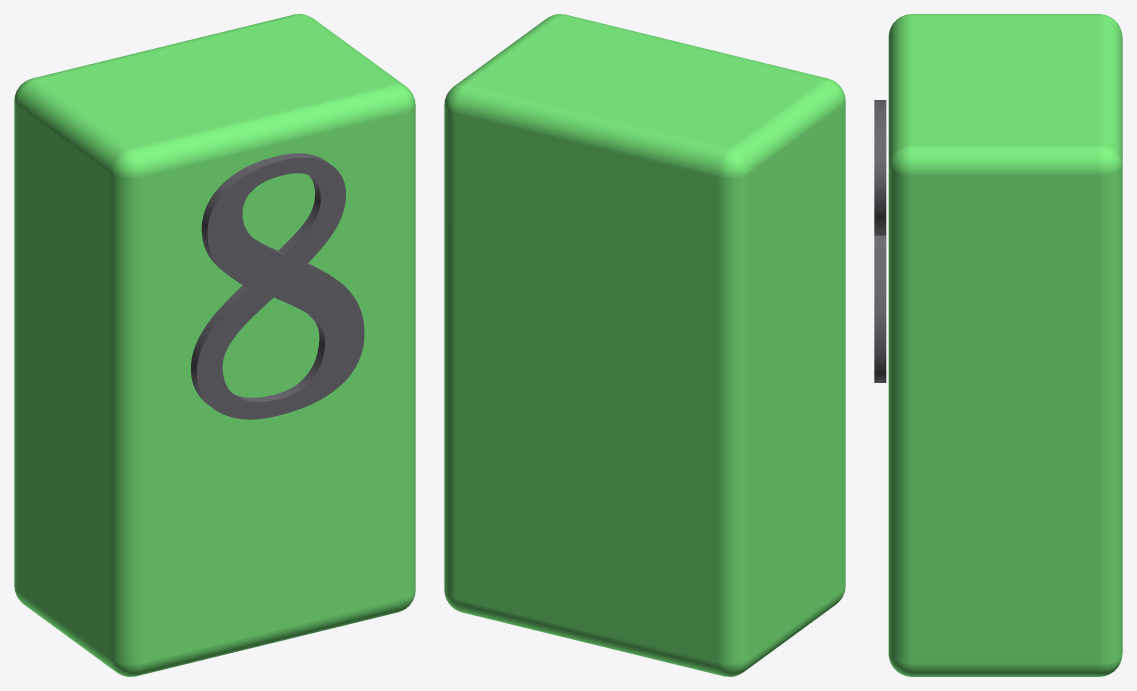
The model's file is pin_8.gltf.
The picture shows the model from 3 angles, left to right: view 1: azimuth 30°, elevation 25°; view 2: azimuth 150°, elevation 25°; view 3: azimuth 270°, elevation 25°; orthographic projection.
Parts seen in each view (by area): view 1: White, Black; view 2: White; view 3: White, Black.
Boxes of the visible parts, <box> form: White: <box>14,14,415,676</box>; Black: <box>191,153,364,419</box>; White: <box>444,14,845,676</box>; White: <box>888,14,1122,676</box>; Black: <box>874,100,886,382</box>.
Bounding box in the file's own units: 1.5 × 2.5 × 1.06.
